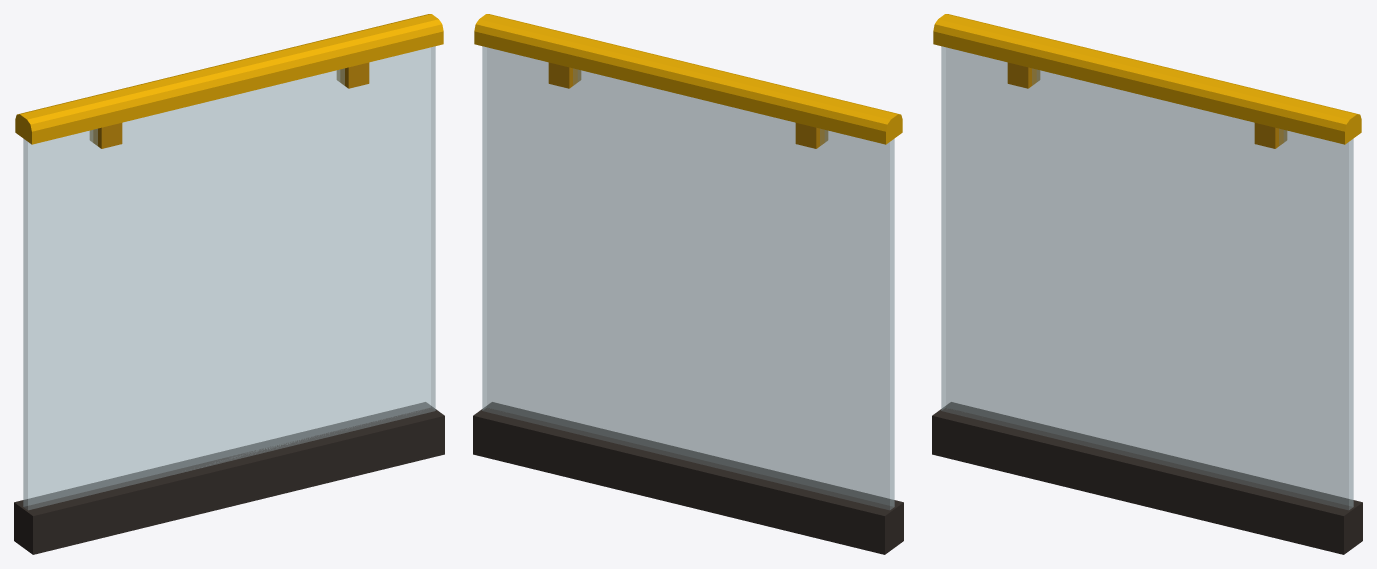
File: gelaender.glb
3 views of the same model, side by side, from view 1: azimuth 30°, elevation 25°; view 2: azimuth 150°, elevation 25°; view 3: azimuth 330°, elevation 25° (orthographic).
Visible parts, largest first — view 1: gelaender; view 2: gelaender; view 3: gelaender.
Boxes of the visible parts, bbox=[...] form: gelaender: bbox=[14, 14, 444, 554]; gelaender: bbox=[473, 14, 903, 554]; gelaender: bbox=[932, 14, 1362, 554].
Size of the model in its own units: 1 by 1 by 0.08.
